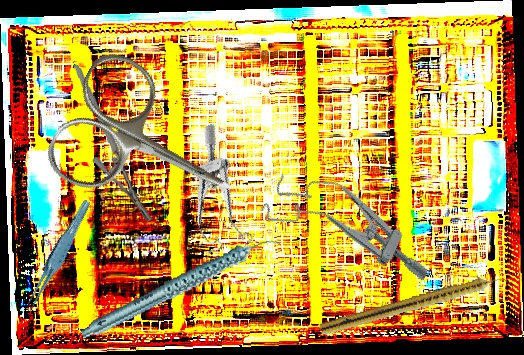Handpiece: (70, 234, 291, 341), (318, 269, 512, 340)
Iris Scissors: (37, 43, 264, 252)
Needle Holder: (73, 58, 154, 228)
Speculum: (259, 158, 445, 293), (161, 123, 265, 265)
Tissue Forceps: (15, 198, 100, 314)
